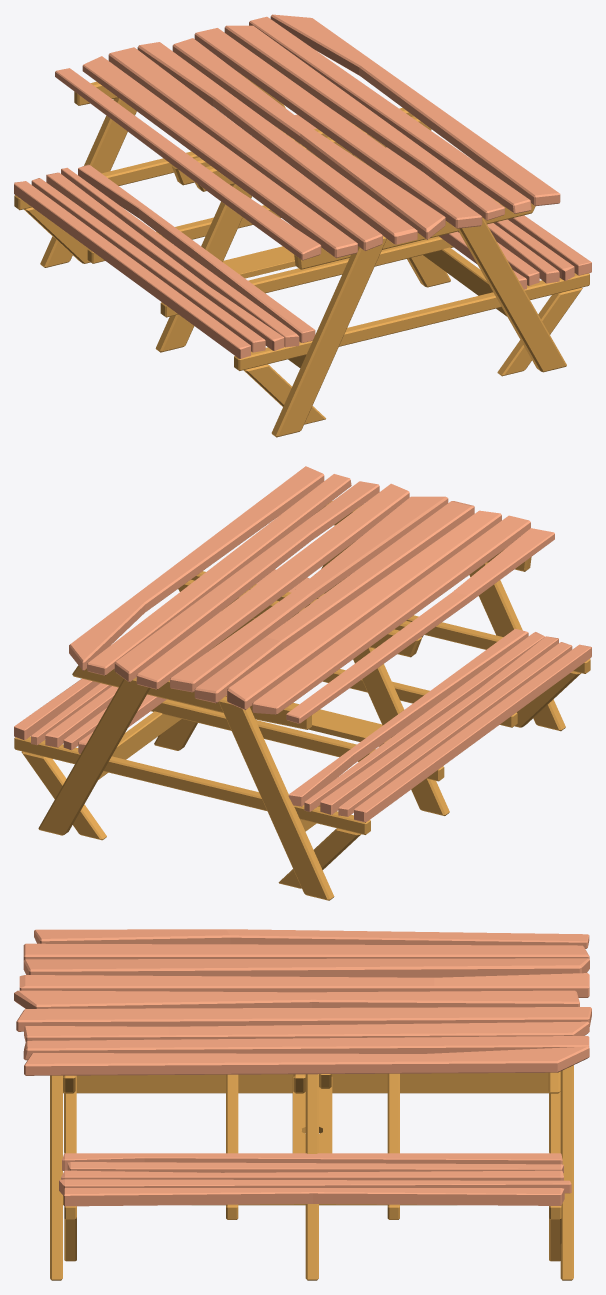
Rendered from Picnik_Table_With_Bench.fbx.
3 renders of one model, top to bottom at view 1: azimuth 30°, elevation 25°; view 2: azimuth 150°, elevation 25°; view 3: azimuth 270°, elevation 25°, orthographic. The views are drawn at different scales.
Parts seen in each view (by area): view 1: Table.003, Bench.004, TableStand.003, Stage.001, Achses.001; view 2: Table.003, Bench.004, TableStand.003, Stage.001, Achses.001; view 3: Table.003, Bench.004, TableStand.003, Stage.001, Achses.001.
Boxes of the visible parts, left/top/right/bottom form: Table.003: left=55, top=14, right=560, bottom=260; Bench.004: left=14, top=114, right=591, bottom=358; TableStand.003: left=40, top=72, right=566, bottom=437; Stage.001: left=14, top=130, right=589, bottom=370; Achses.001: left=24, top=207, right=582, bottom=424; Table.003: left=69, top=466, right=554, bottom=723; Bench.004: left=14, top=569, right=591, bottom=822; TableStand.003: left=38, top=501, right=565, bottom=900; Stage.001: left=14, top=593, right=590, bottom=834; Achses.001: left=21, top=671, right=580, bottom=888; Table.003: left=14, top=929, right=591, bottom=1075; Bench.004: left=59, top=1153, right=571, bottom=1206; TableStand.003: left=50, top=1065, right=573, bottom=1280; Stage.001: left=64, top=1073, right=561, bottom=1219; Achses.001: left=64, top=1093, right=561, bottom=1261.
Bounding box in the file's own units: 635 × 329 × 815.
